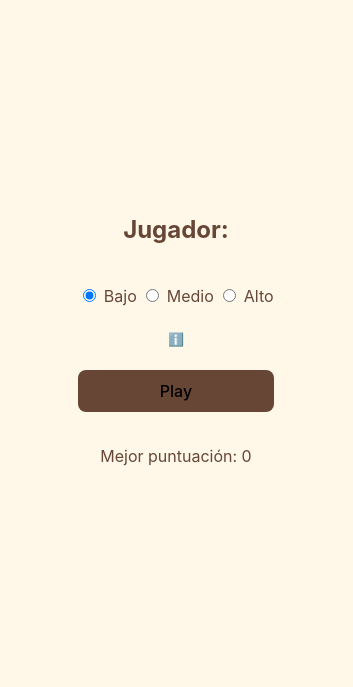
Game.vue › starts the game when "Play" is clicked
Click the button "Play".
click(176, 391)  # box x1=78 y1=370 x2=274 y2=412
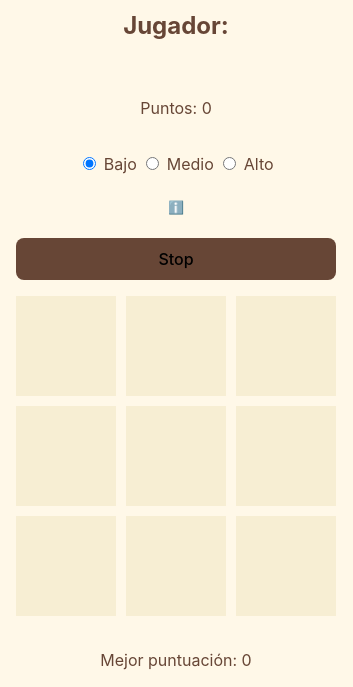
Check: the button "Stop" is shown, box x1=16 y1=238 x2=336 y2=280
